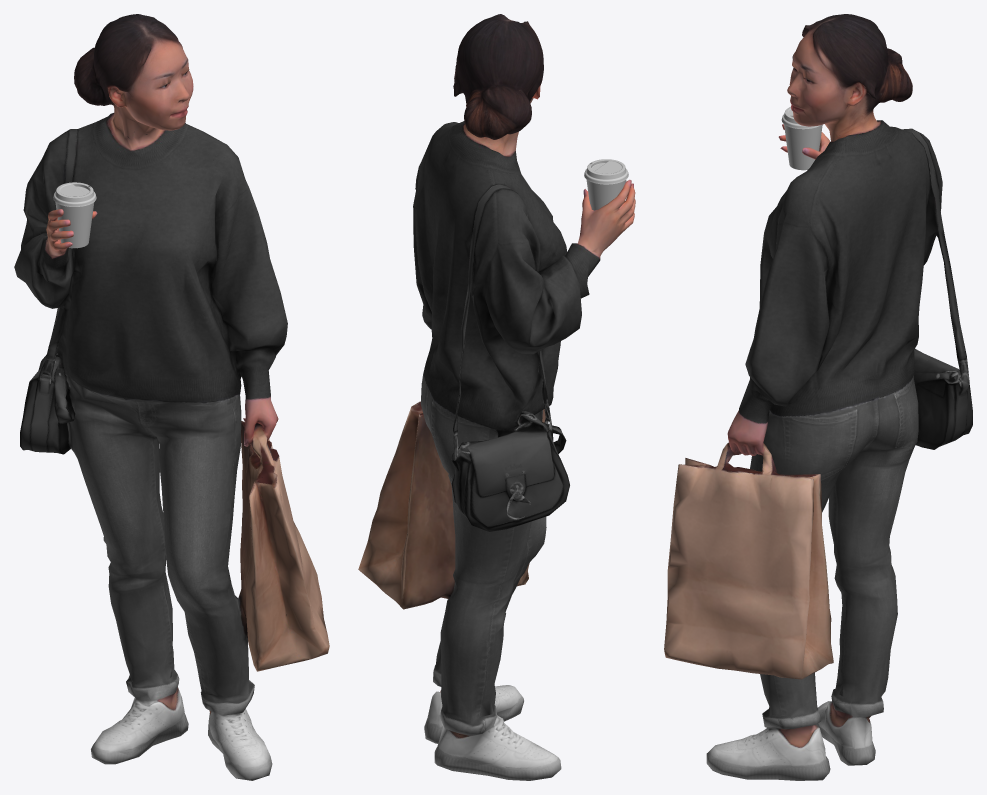
File: Humano_Posed_0835341-Woman_03_LOD2.fbx
3 views of the same model, side by side, from view 1: azimuth 30°, elevation 25°; view 2: azimuth 150°, elevation 25°; view 3: azimuth 270°, elevation 25° (orthographic). The views are drawn at different scales.
Parts seen in each view (by area): view 1: Humano_Posed_0835341-Woman_03_LOD2, Humano_Posed_0835341-Woman_Accessories-01_03_LOD2; view 2: Humano_Posed_0835341-Woman_03_LOD2, Humano_Posed_0835341-Woman_Accessories-01_03_LOD2; view 3: Humano_Posed_0835341-Woman_03_LOD2, Humano_Posed_0835341-Woman_Accessories-01_03_LOD2.
Part boxes in pixels (x1=…): Humano_Posed_0835341-Woman_03_LOD2: x1=14, y1=14, x2=329, y2=780; Humano_Posed_0835341-Woman_Accessories-01_03_LOD2: x1=53, y1=182, x2=96, y2=248; Humano_Posed_0835341-Woman_03_LOD2: x1=358, y1=14, x2=635, y2=780; Humano_Posed_0835341-Woman_Accessories-01_03_LOD2: x1=584, y1=159, x2=628, y2=210; Humano_Posed_0835341-Woman_03_LOD2: x1=664, y1=14, x2=972, y2=780; Humano_Posed_0835341-Woman_Accessories-01_03_LOD2: x1=781, y1=106, x2=822, y2=170.
Bounding box in the file's own units: 63.14 × 164 × 63.36.
